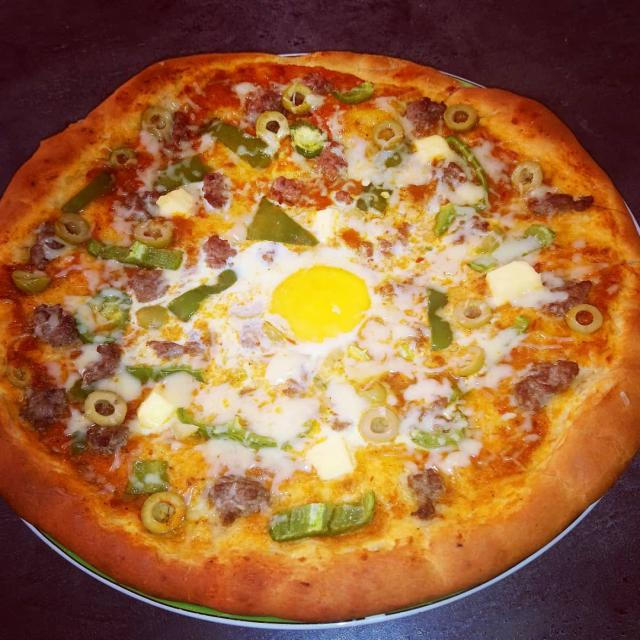green_olives: (140, 491, 187, 536), (358, 403, 402, 446), (86, 391, 129, 428), (255, 108, 290, 146), (565, 303, 603, 335), (134, 219, 174, 249), (454, 300, 492, 330), (56, 214, 90, 246), (140, 105, 172, 139), (510, 162, 543, 194), (453, 344, 484, 378), (13, 269, 55, 294), (444, 103, 479, 133), (372, 119, 404, 151), (284, 82, 314, 114), (134, 303, 168, 331), (7, 362, 33, 390), (358, 383, 386, 404), (110, 149, 135, 168)
pizza: (0, 52, 638, 622)
